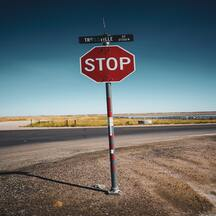Circle: (79, 45, 135, 82)
